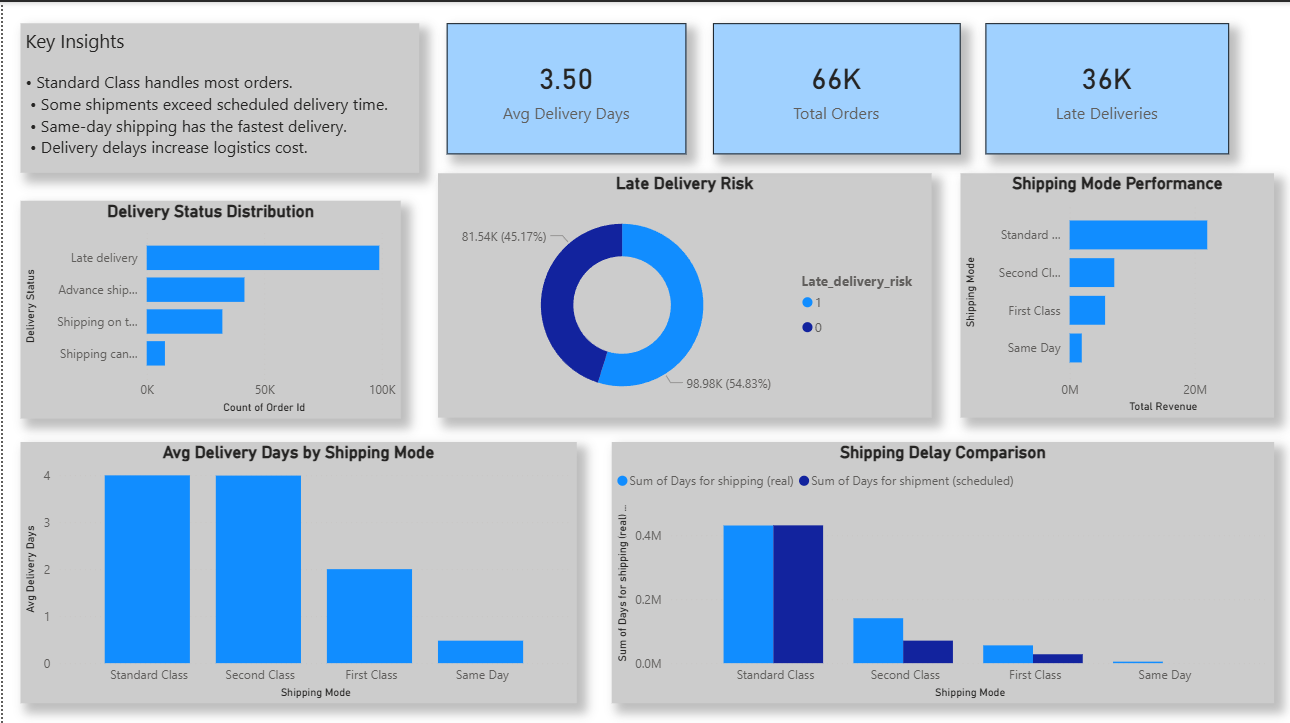

What the dashboard file says about the page in this screenshot:
{"tool":"powerbi","page":{"name":"Logistics & Delivery Analysis","canvas":[1280,720],"ordinal":3},"visuals":[{"type":"card","fields":{"Values":["DataCoSupplyChainDataset.Avg Delivery Days"]},"box":[441.1,21.7,238.4,130],"z":0},{"type":"donutChart","title":"Late Delivery Risk","fields":{"Category":["DataCoSupplyChainDataset.Late_delivery_risk"],"Y":["CountNonNull(DataCoSupplyChainDataset.Order Id)"]},"box":[433.5,170.8,490.8,243.5],"z":1},{"type":"barChart","title":"Delivery Status Distribution","fields":{"Category":["DataCoSupplyChainDataset.Delivery Status"],"Y":["CountNonNull(DataCoSupplyChainDataset.Order Id)"]},"box":[17.8,197.6,378.6,216.7],"z":2},{"type":"barChart","title":"Shipping Mode Performance","fields":{"Category":["DataCoSupplyChainDataset.Shipping Mode"],"Y":["DataCoSupplyChainDataset.Total Revenue"]},"box":[952.4,170.8,312.4,243.5],"z":3},{"type":"clusteredColumnChart","title":"Shipping Delay Comparison","fields":{"Category":["DataCoSupplyChainDataset.Shipping Mode"],"Y":["Sum(DataCoSupplyChainDataset.Days for shipping (real))","Sum(DataCoSupplyChainDataset.Days for shipment (scheduled))"]},"box":[605.6,437.3,659.1,260.1],"z":4},{"type":"card","fields":{"Values":["DataCoSupplyChainDataset.Late Deliveries"]},"box":[977.8,21.7,242.2,130],"z":5},{"type":"textbox","box":[17.8,21.7,396.5,149.2],"z":6},{"type":"card","fields":{"Values":["DataCoSupplyChainDataset.Total Orders"]},"box":[706.3,21.7,246.1,130],"z":7},{"type":"columnChart","fields":{"Category":["DataCoSupplyChainDataset.Shipping Mode"],"Y":["DataCoSupplyChainDataset.Avg Delivery Days"]},"box":[17.8,437.3,553.3,260.1],"z":8}]}

Visuals, with their boxes in screenshot pixels (x1, y1, x2, y2), scaled from the page's 1280x720 canvas onto the 1290x723 screenshot:
card - DataCoSupplyChainDataset.Avg Delivery Days: (445,22,685,152)
"Late Delivery Risk" donutChart: (437,172,932,416)
"Delivery Status Distribution" barChart: (18,198,399,416)
"Shipping Mode Performance" barChart: (960,172,1275,416)
"Shipping Delay Comparison" clusteredColumnChart: (610,439,1275,700)
card - DataCoSupplyChainDataset.Late Deliveries: (985,22,1230,152)
textbox: (18,22,418,172)
card - DataCoSupplyChainDataset.Total Orders: (712,22,960,152)
columnChart - DataCoSupplyChainDataset.Shipping Mode x DataCoSupplyChainDataset.Avg Delivery Days: (18,439,576,700)
